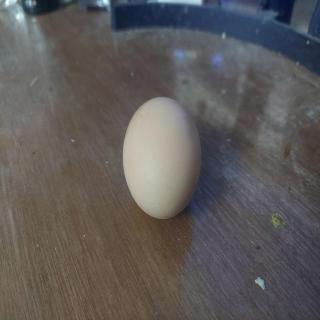Telur: (117, 96, 208, 226)
